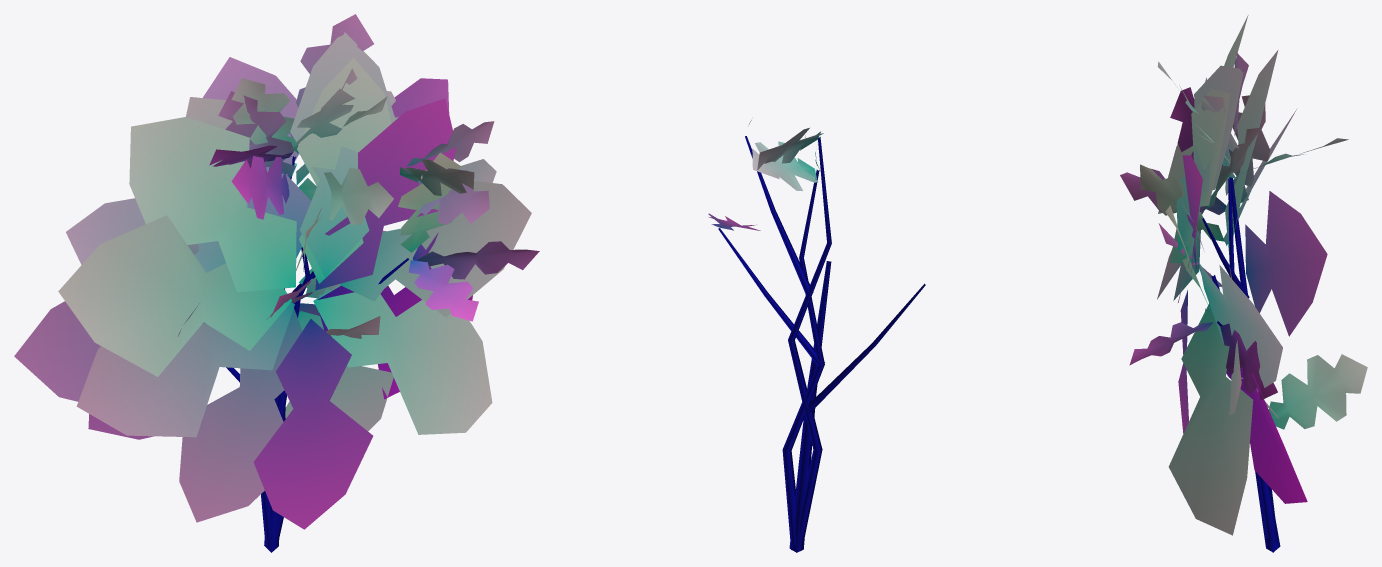
Rendered from verdant-foliage.glb.
3 renders of one model, left to right at view 1: azimuth 30°, elevation 25°; view 2: azimuth 150°, elevation 25°; view 3: azimuth 270°, elevation 25°, orthographic. The views are drawn at different scales.
Visible parts, largest first — view 1: oak_tuft_0, oak_tuft_1, oak_spray_1, oak_spray_0; view 2: oak_spray_0, oak_spray_1, oak_tuft_1, oak_tuft_0; view 3: oak_tuft_1, oak_tuft_0, oak_spray_1, oak_spray_0.
Part boxes in pixels (<box>): oak_tuft_0: <box>58,57,531,552</box>; oak_tuft_1: <box>14,32,496,552</box>; oak_spray_1: <box>218,68,539,538</box>; oak_spray_0: <box>178,14,494,545</box>; oak_spray_0: <box>745,120,925,546</box>; oak_spray_1: <box>708,135,824,550</box>; oak_tuft_1: <box>789,261,829,552</box>; oak_tuft_0: <box>789,261,831,552</box>; oak_tuft_1: <box>1168,50,1297,552</box>; oak_tuft_0: <box>1157,15,1327,552</box>; oak_spray_1: <box>1129,87,1367,552</box>; oak_spray_0: <box>1120,52,1278,516</box>.
Size of the model in its own units: 0.9463 by 0.9541 by 0.4422.
